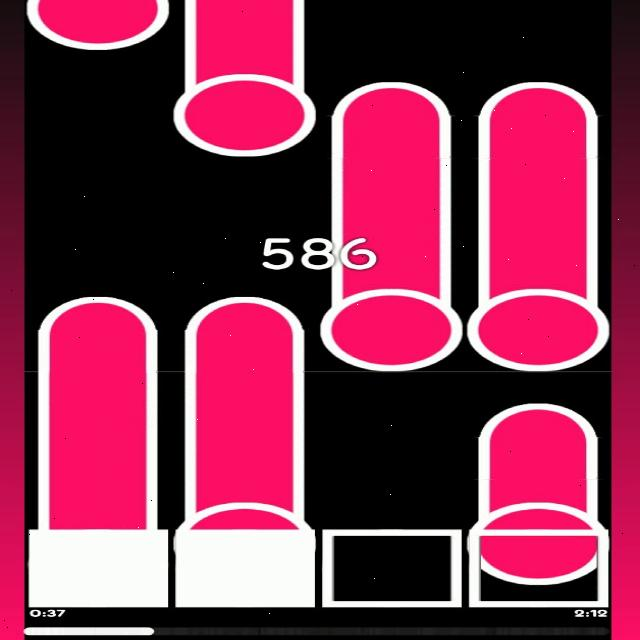end_hold: (31, 271, 170, 343), (472, 381, 604, 451), (178, 278, 314, 342), (332, 61, 454, 129), (472, 71, 607, 129)
start_hold: (322, 263, 463, 372), (466, 264, 610, 370), (176, 52, 318, 158), (475, 486, 601, 581), (26, 0, 170, 52), (172, 482, 319, 531)
